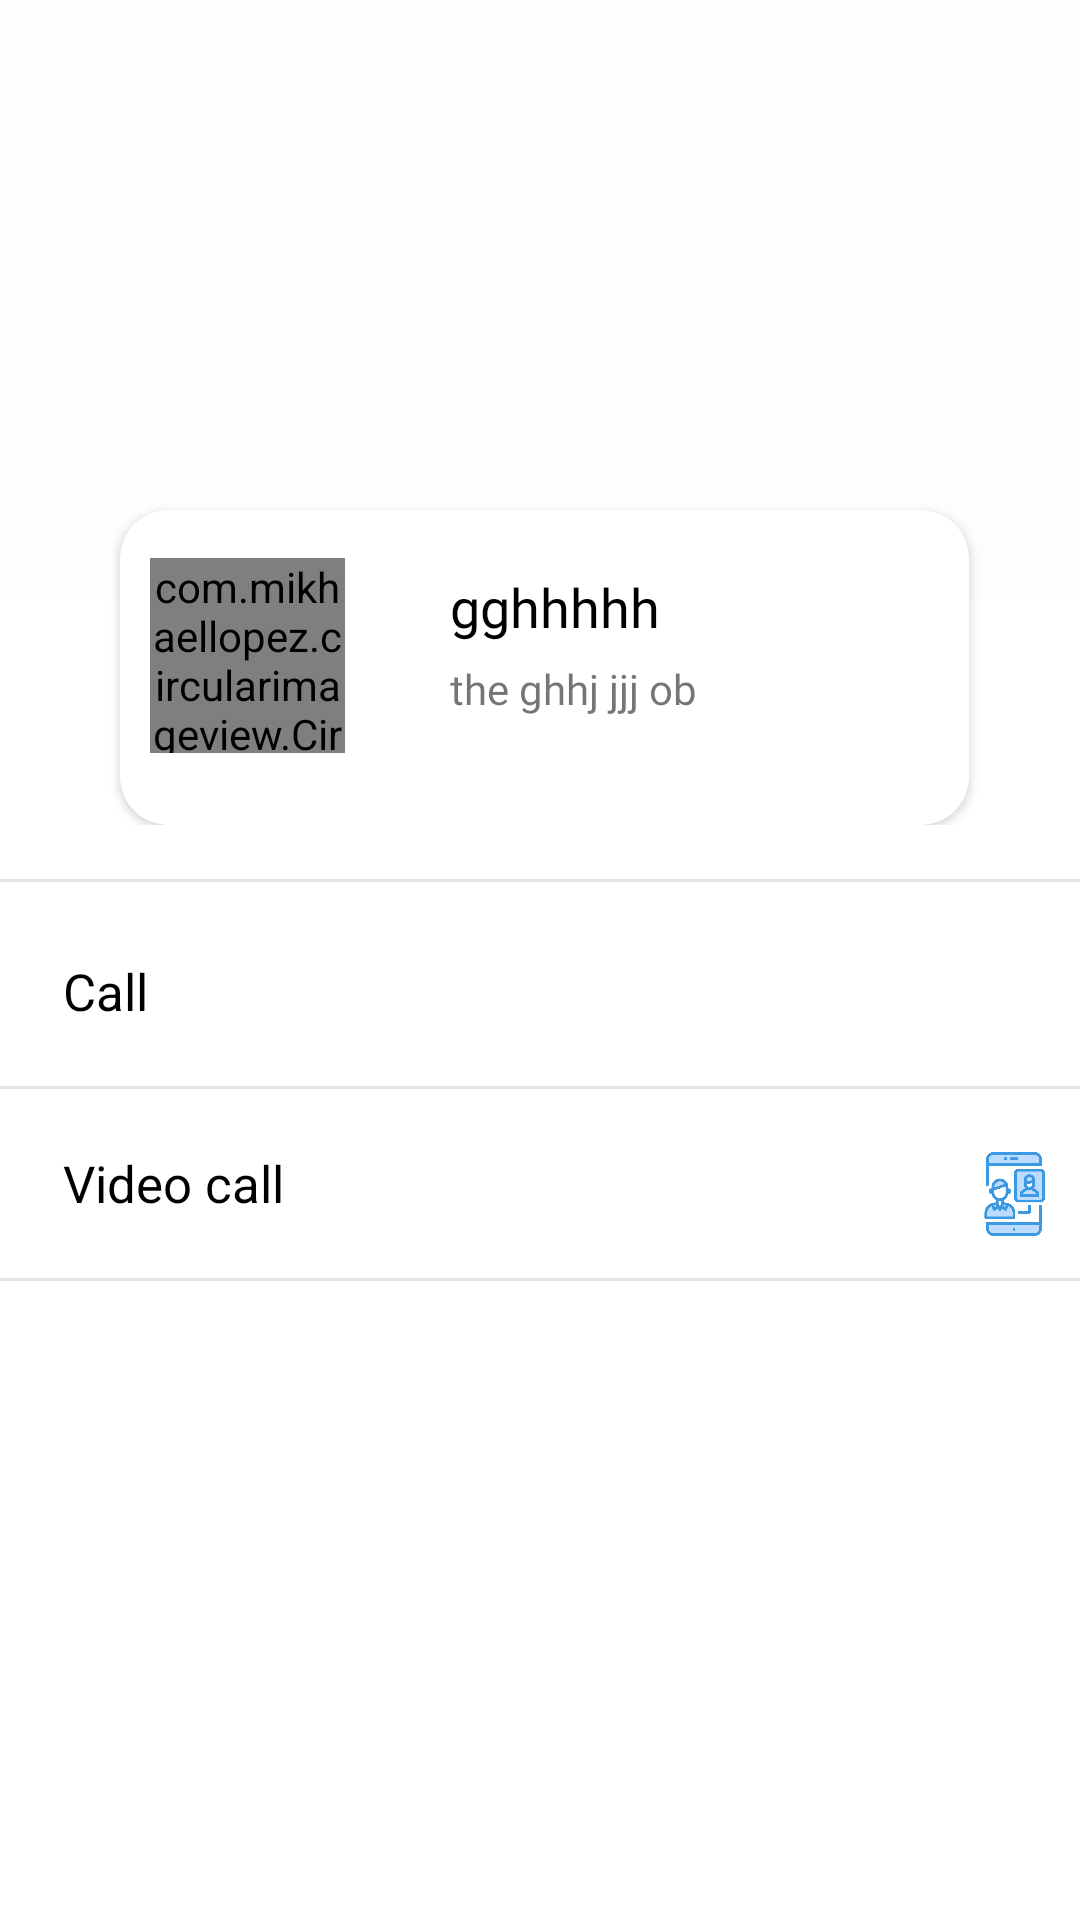

Screen size 1080w x 1920h. Icon name, then its box in pixels as (x1, y1, x2, y2):
videocall: (984, 1152, 1045, 1236)
